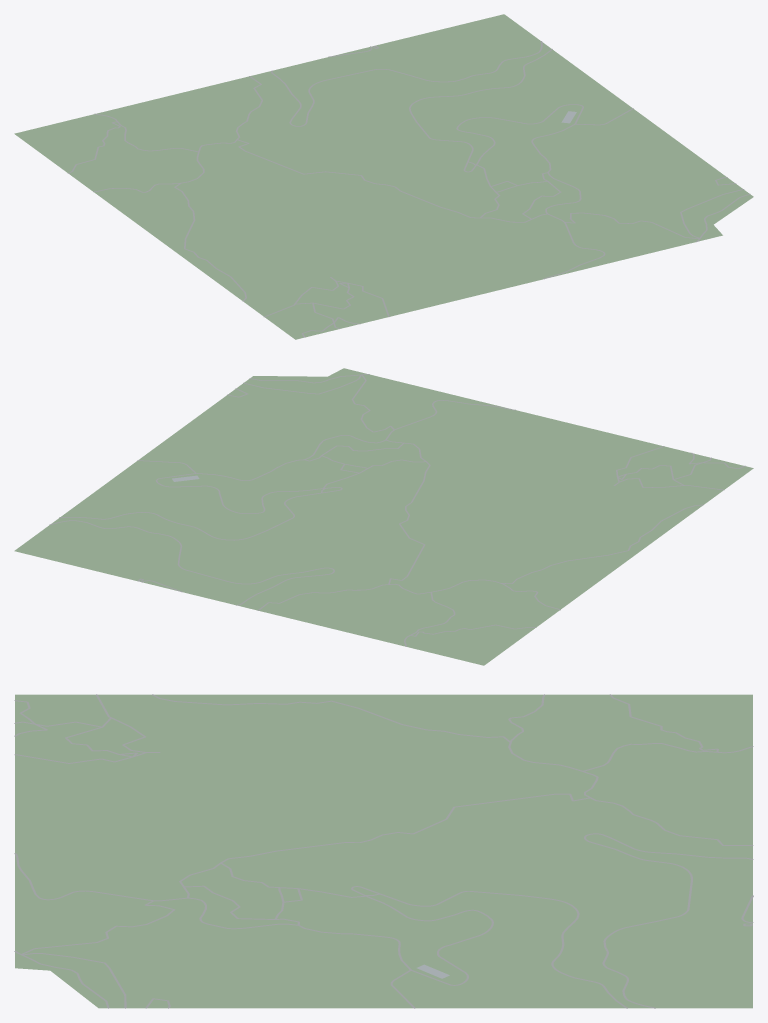
File: 17_4-known-fine.glb
3 renders of one model, top to bottom at view 1: azimuth 30°, elevation 25°; view 2: azimuth 150°, elevation 25°; view 3: azimuth 270°, elevation 25°, orthographic. The views are drawn at different scales.
Bounding box in the file's own units: 1003 × 0.15 × 998.
